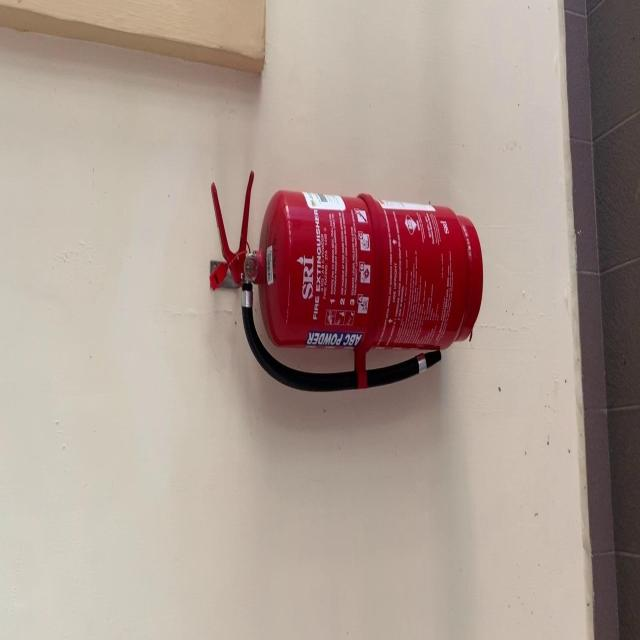fire_extinguisher: (206, 167, 487, 396)
